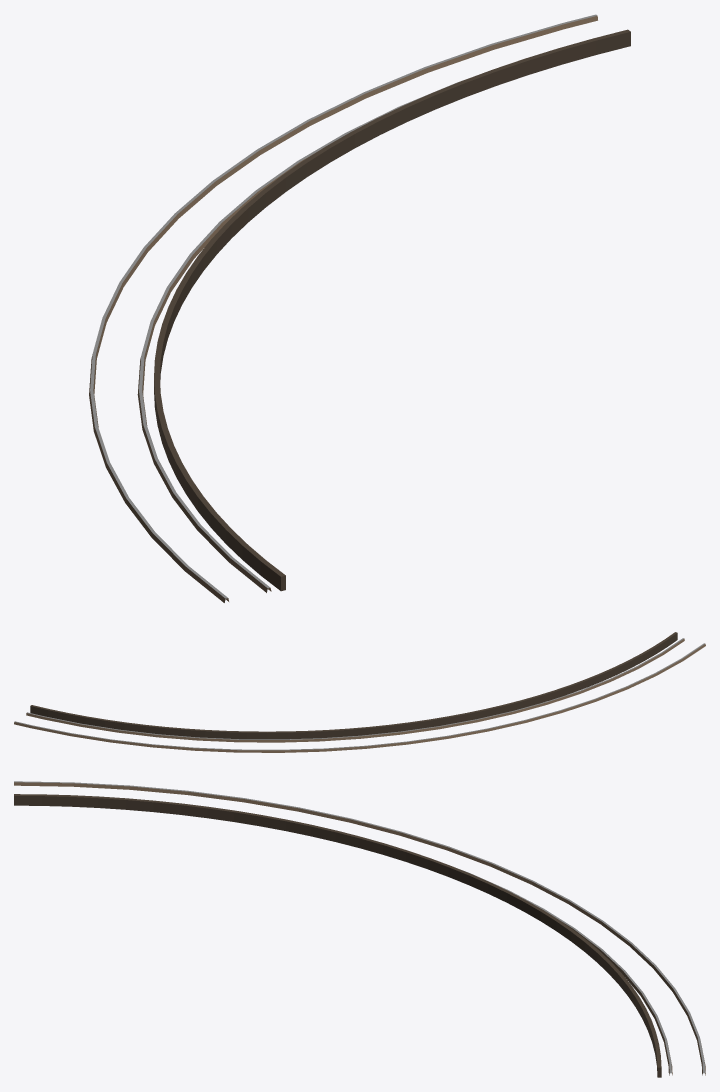
The model's file is SW_ENV_TrackBend_Outer_90_25m_Collision.fbx.
The picture shows the model from 3 angles, top to bottom: view 1: azimuth 30°, elevation 25°; view 2: azimuth 150°, elevation 25°; view 3: azimuth 270°, elevation 25°; orthographic projection. The views are drawn at different scales.
Visible parts, largest first — view 1: SW_ENV_TrackBend_Outer_90_25m_Collision; view 2: SW_ENV_TrackBend_Outer_90_25m_Collision; view 3: SW_ENV_TrackBend_Outer_90_25m_Collision.
Part boxes in pixels (x1,y1,x2,y2): SW_ENV_TrackBend_Outer_90_25m_Collision: [89, 14, 630, 602]; SW_ENV_TrackBend_Outer_90_25m_Collision: [14, 632, 705, 752]; SW_ENV_TrackBend_Outer_90_25m_Collision: [14, 781, 705, 1077].
Bounding box in the file's own units: 3031 × 47.71 × 3031.
